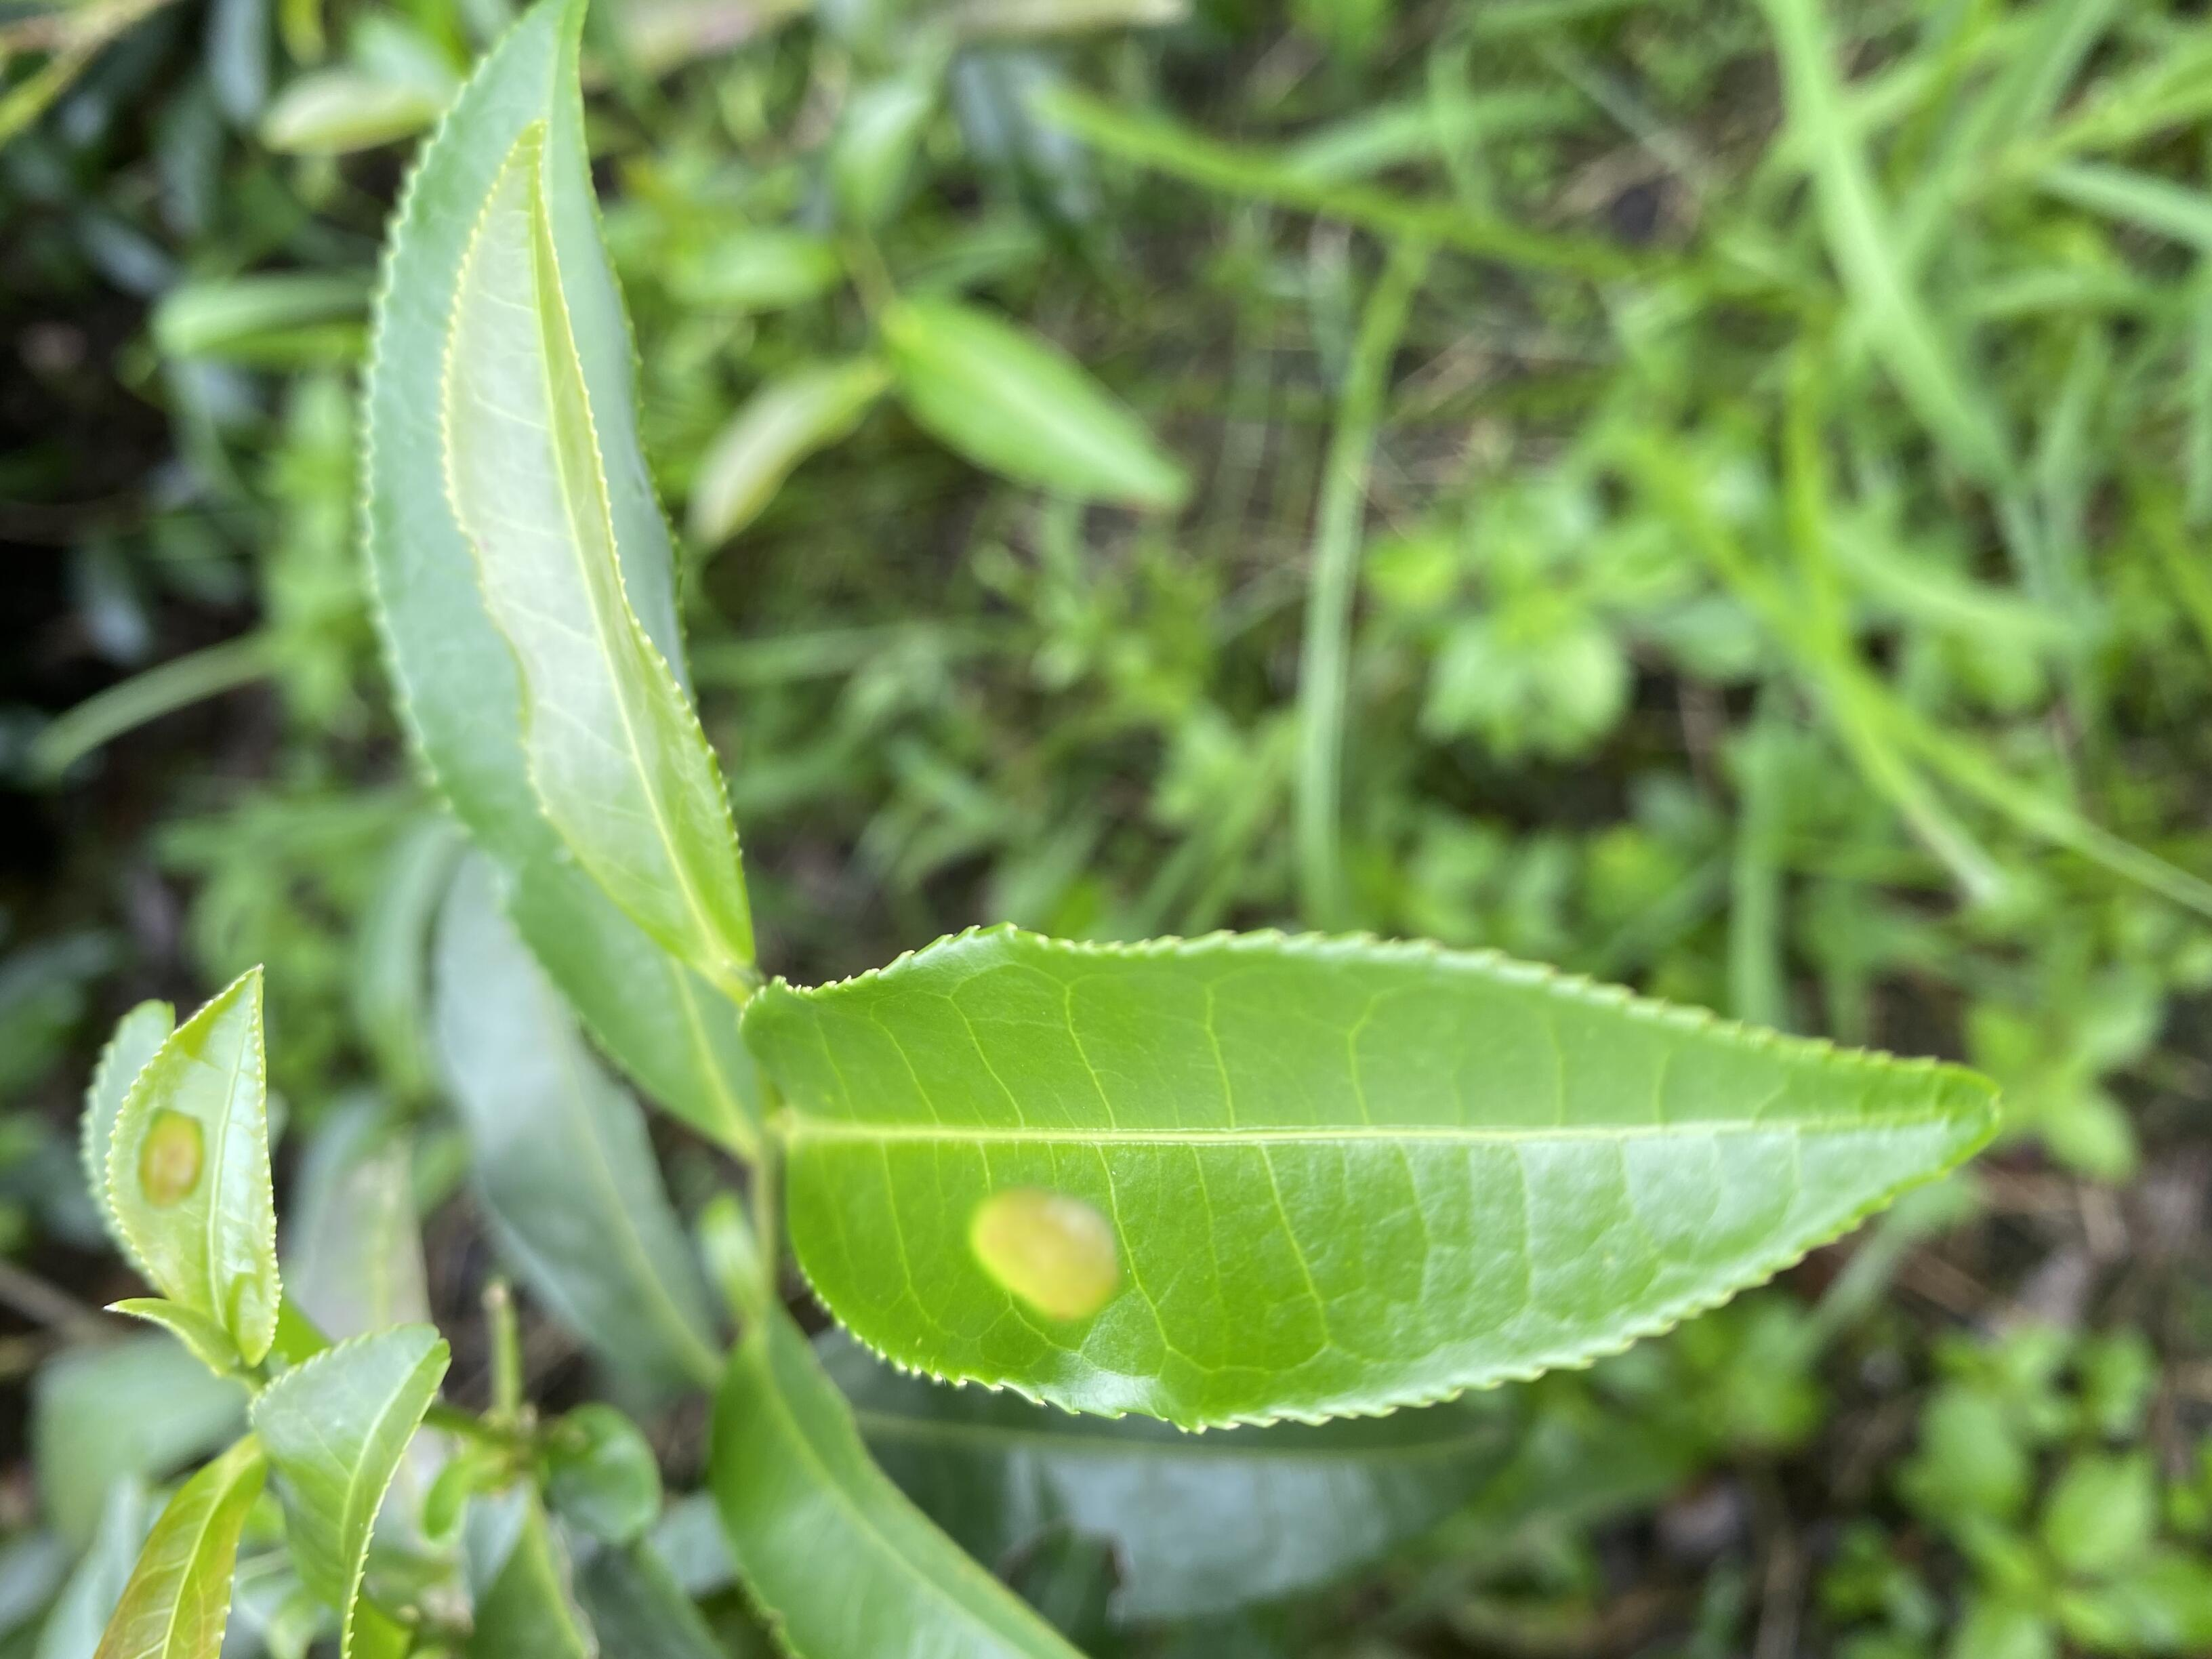chabing_low: (744, 917, 2010, 1439), (101, 967, 286, 1364)
healthy: (355, 2, 777, 1148), (441, 124, 759, 992), (249, 1323, 453, 1656)
tanju_low: (96, 1432, 265, 1656)
